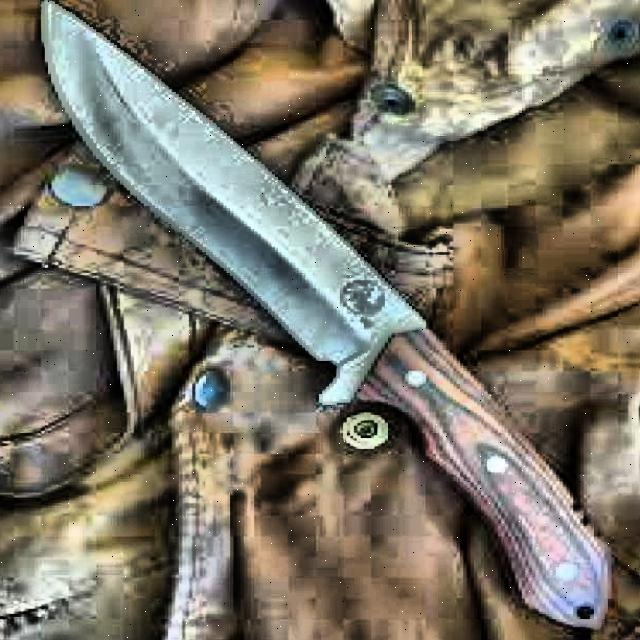knife: (38, 0, 626, 636)
